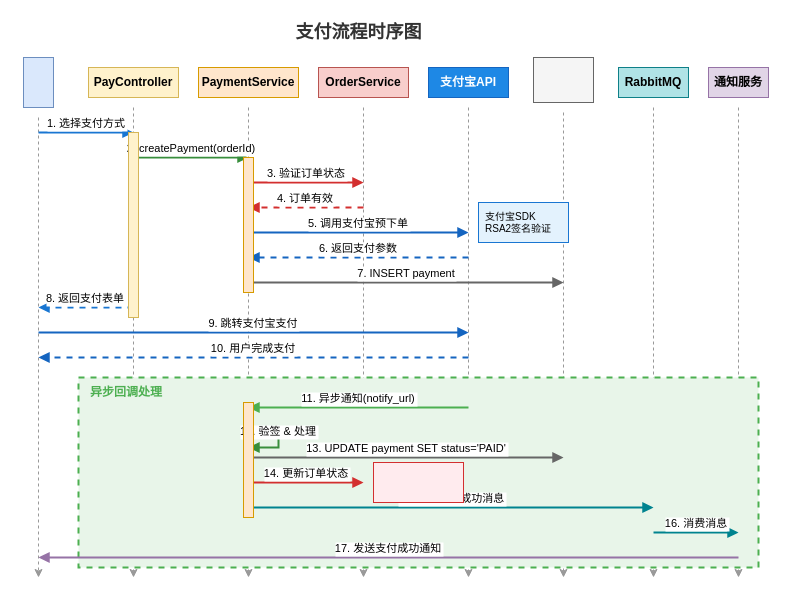
The diagram is 786 pixels wide and 603 high, and some of its shapes have lost their labels. The centre of each missing label's shape, as x and y in pixels:
Database: point 563,79
状态机驱动 订单状态转换: point 418,482
👤 用户: point 38,82
